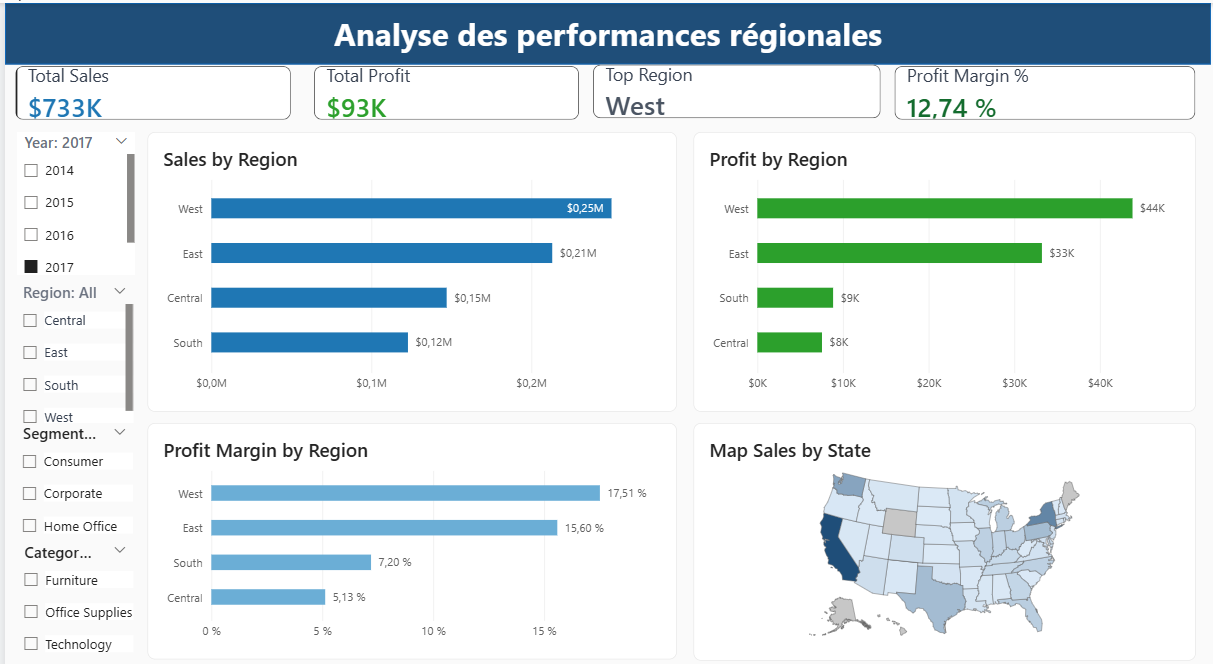

What the dashboard file says about the page in this screenshot:
{"tool":"powerbi","page":{"name":"Sales","canvas":[1280,720],"ordinal":1},"visuals":[{"type":"shape","box":[0,0,1278.9,65.2],"z":0},{"type":"cardVisual","fields":{"Data":["Mes mesures.Total Sales"]},"box":[11.1,66.8,292.7,57.3],"z":1000},{"type":"cardVisual","fields":{"Data":["Mes mesures.Total Profit"]},"box":[327.7,66.8,281.5,57.3],"z":2000},{"type":"cardVisual","fields":{"Data":["Mes mesures.Top Region"]},"box":[623.5,65.2,305.4,57.3],"z":3000},{"type":"cardVisual","fields":{"Data":["Mes mesures.Profit Margin %"]},"box":[943.2,66.8,319.7,57.3],"z":4000},{"type":"slicer","fields":{"Values":["Calendar.Year"]},"box":[12.9,137.5,124.6,150.4],"z":6000},{"type":"slicer","fields":{"Values":["Sample - Superstore.Region"]},"box":[11.5,296.5,124.6,149],"z":7000},{"type":"slicer","fields":{"Values":["Sample - Superstore.Segment"]},"box":[11.5,445.5,124.6,149],"z":8000},{"type":"barChart","title":"Sales by Region","fields":{"Y":["Mes mesures.Total Sales"],"Category":["Sample - Superstore.Region"]},"box":[150.4,137.5,561.5,296.5],"z":9000},{"type":"barChart","title":"Profit by Region","fields":{"Category":["Sample - Superstore.Region"],"Y":["Mes mesures.Total Profit"]},"box":[730.5,137.5,532.8,296.5],"z":10000},{"type":"barChart","title":"Profit Margin by Region","fields":{"Y":["Mes mesures.Profit Margin %"],"Category":["Sample - Superstore.Region"]},"box":[150.4,445.5,561.5,250.7],"z":11000},{"type":"shapeMap","title":"Map Sales by State","fields":{"Category":["Sample - Superstore.State"],"Value":["Mes mesures.Total Sales"]},"box":[730.5,445.5,532.8,252.1],"z":12000},{"type":"slicer","fields":{"Values":["Sample - Superstore.Category"]},"box":[12.2,570.5,123.2,140],"z":13000}]}

Visuals, with their boxes in screenshot pixels (x1, y1, x2, y2), scaled from the page's 1280x720 canvas onto the 1213x664 screenshot:
shape: <bbox>0, 0, 1212, 60</bbox>
cardVisual - Mes mesures.Total Sales: <bbox>11, 62, 288, 114</bbox>
cardVisual - Mes mesures.Total Profit: <bbox>311, 62, 577, 114</bbox>
cardVisual - Mes mesures.Top Region: <bbox>591, 60, 880, 113</bbox>
cardVisual - Mes mesures.Profit Margin %: <bbox>894, 62, 1197, 114</bbox>
slicer - Calendar.Year: <bbox>12, 127, 130, 266</bbox>
slicer - Sample - Superstore.Region: <bbox>11, 273, 129, 411</bbox>
slicer - Sample - Superstore.Segment: <bbox>11, 411, 129, 548</bbox>
"Sales by Region" barChart: <bbox>143, 127, 675, 400</bbox>
"Profit by Region" barChart: <bbox>692, 127, 1197, 400</bbox>
"Profit Margin by Region" barChart: <bbox>143, 411, 675, 642</bbox>
"Map Sales by State" shapeMap: <bbox>692, 411, 1197, 643</bbox>
slicer - Sample - Superstore.Category: <bbox>12, 526, 128, 655</bbox>
